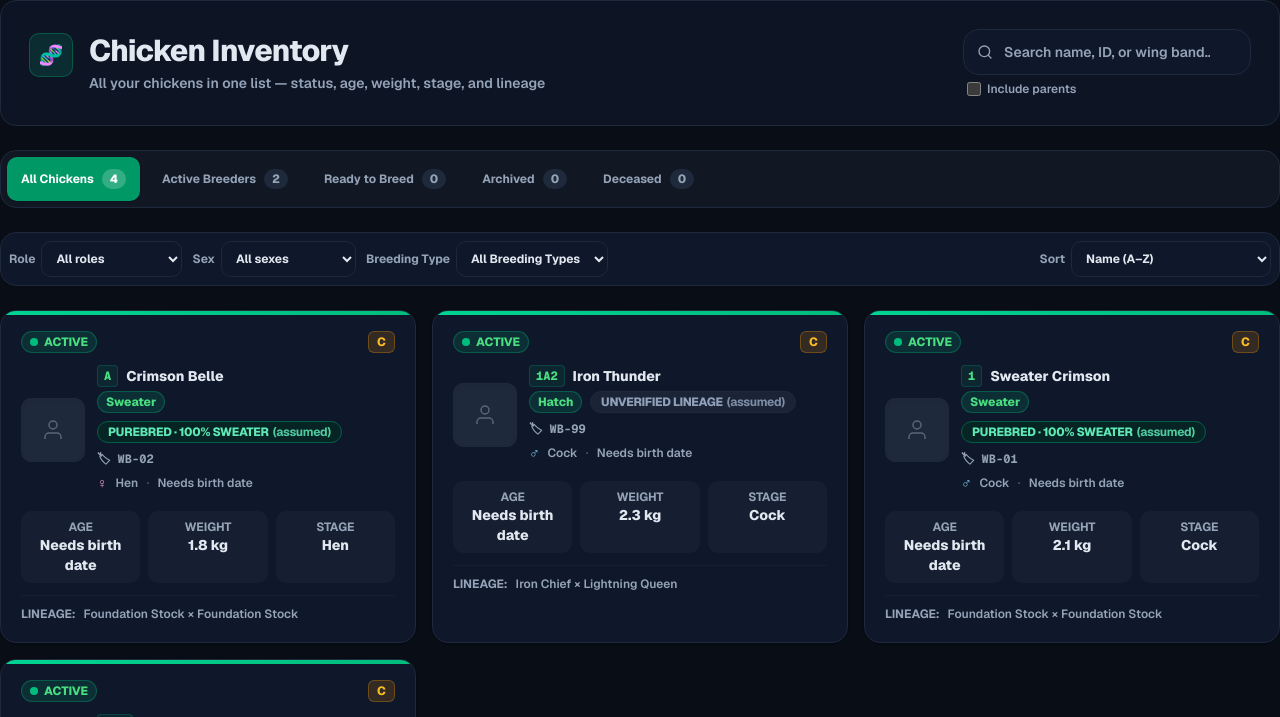
it: MarketplacePage (Chicken Inventory) search and filtering › searching "crim" matches ONLY chickens with "crim" in their own name, ranking startsWith before contains
The image size is (1280, 717).
Step 1. Type "crim" into the search field named "Search Inventory" → point(1107, 52), box x1=963 y1=29 x2=1251 y2=75
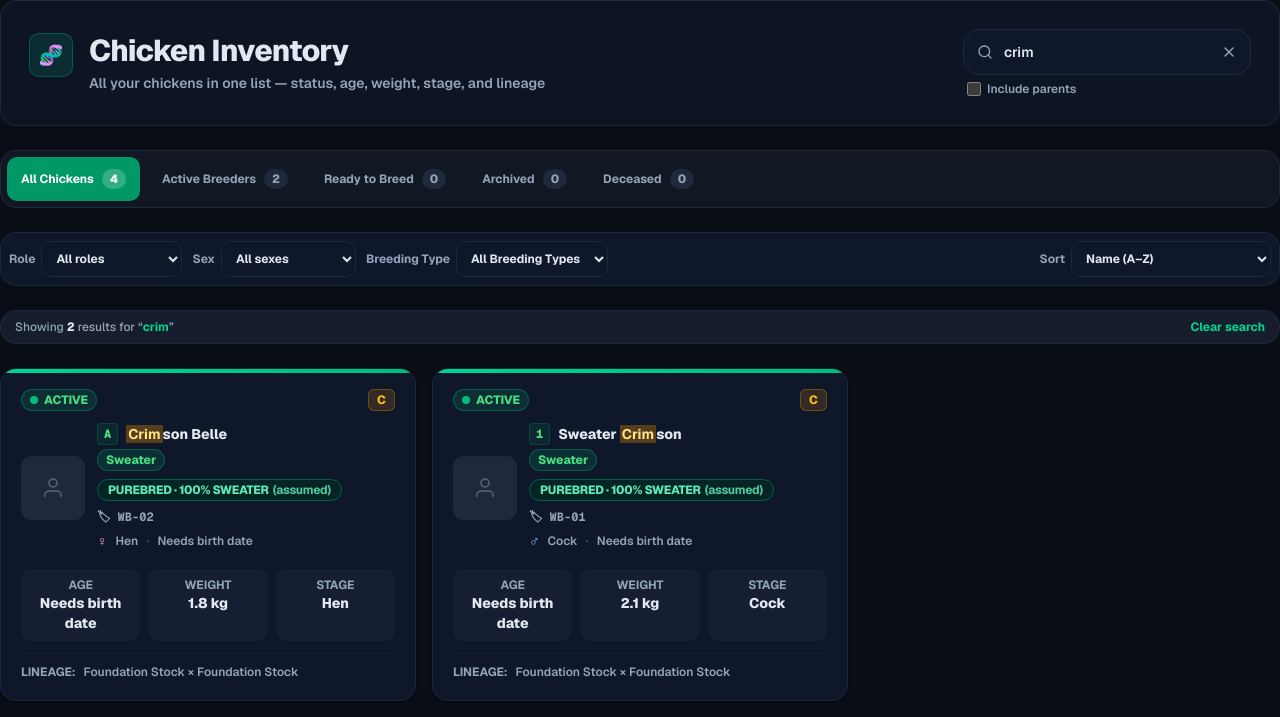
Expected: the heading "Crimson Belle" is shown, x1=126 y1=424 x2=227 y2=444
Result: the element with test id "search-results-banner" shows "Showing 2 results for “crim”" at x1=0 y1=310 x2=1279 y2=344
